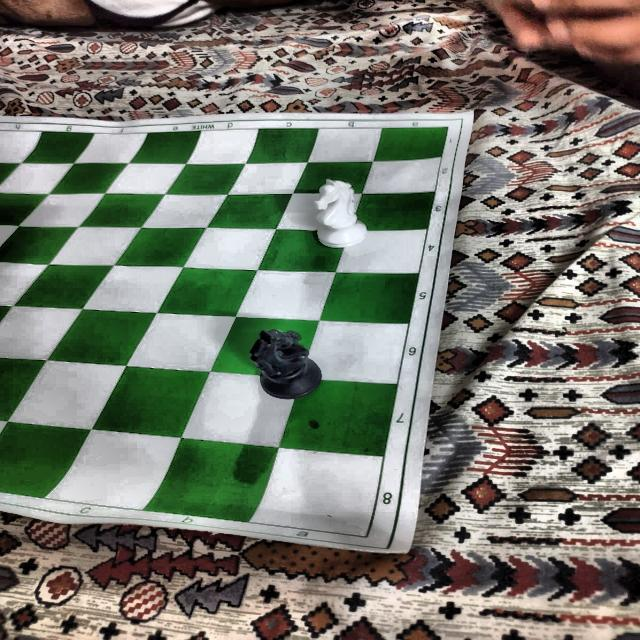BlackKnight: (250, 328, 322, 399)
WhiteKnight: (312, 178, 368, 248)
